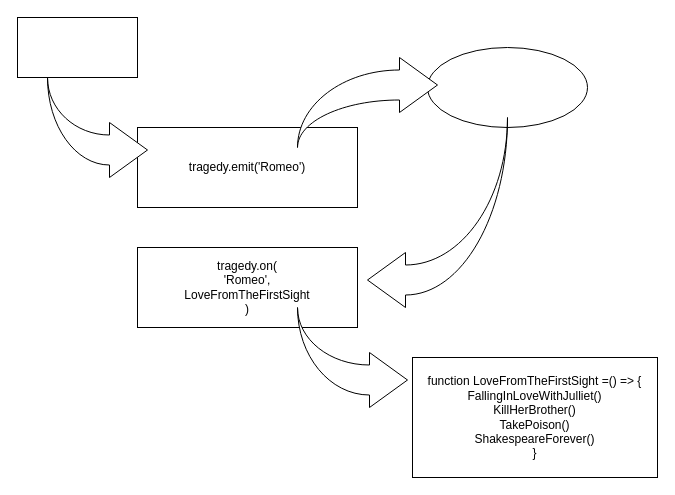
Image size: 675x495. Some labels were removed from this diagram. Here are the shapes that lost their labels. From the top down, the box of each, then its label:
(16, 16, 138, 78): events = require('events') tragedy = new events.EventEmitter()
(426, 46, 588, 128): Romeo
